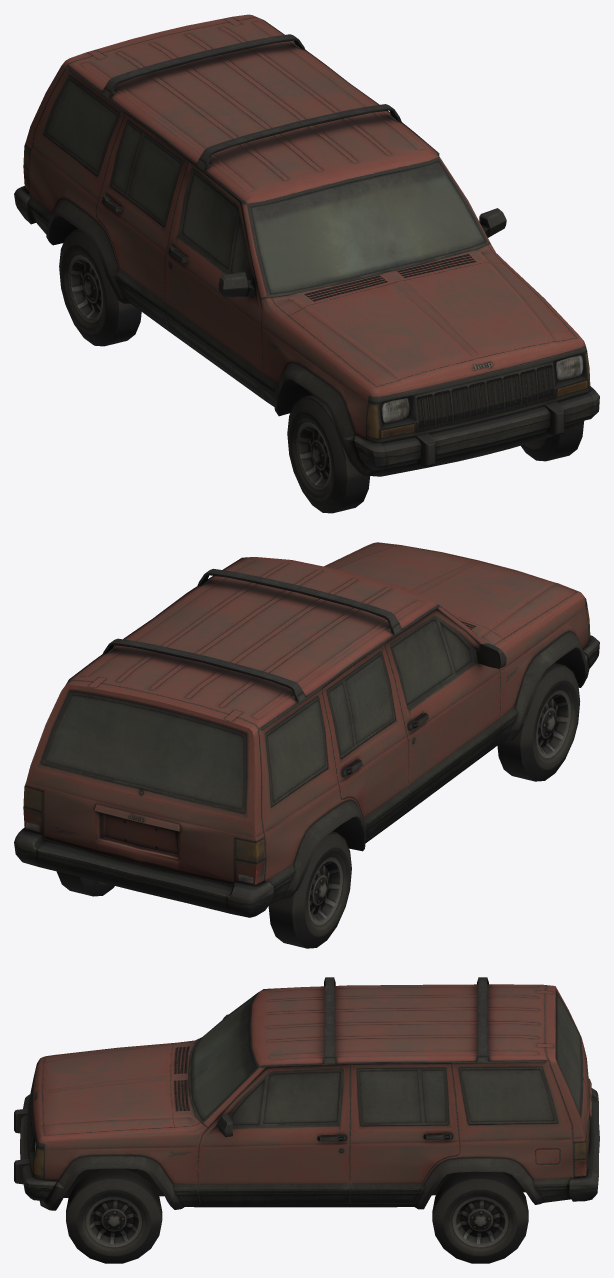
The model's file is DamageCar01.fbx.
The picture shows the model from 3 angles, top to bottom: view 1: azimuth 30°, elevation 25°; view 2: azimuth 150°, elevation 25°; view 3: azimuth 270°, elevation 25°; orthographic projection. The views are drawn at different scales.
Parts seen in each view (by area): view 1: Object002, Object003; view 2: Object002, Object003; view 3: Object002, Object003.
Part boxes in pixels (left/top/right/bottom): Object002: left=14, top=14, right=599, bottom=476; Object003: left=59, top=229, right=584, bottom=513; Object002: left=14, top=542, right=599, bottom=917; Object003: left=56, top=663, right=580, bottom=948; Object002: left=14, top=977, right=599, bottom=1210; Object003: left=66, top=1168, right=528, bottom=1263.
Bounding box in the file's own units: 338 × 294 × 753.
